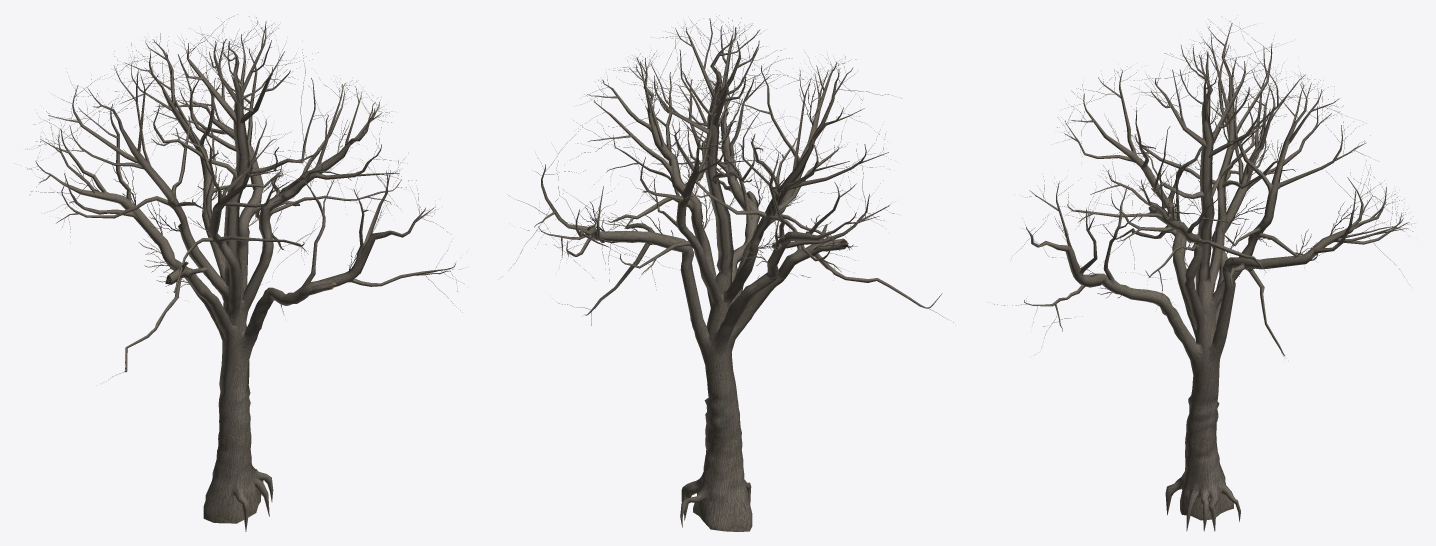
File: oak-raised-winter-fine.gltf
The picture shows the model from 3 angles, left to right: view 1: azimuth 30°, elevation 25°; view 2: azimuth 150°, elevation 25°; view 3: azimuth 270°, elevation 25°; orthographic projection. The views are drawn at different scales.
Visible parts, largest first — view 1: White oak winter fine branches; view 2: White oak winter fine branches; view 3: White oak winter fine branches.
Boxes of the visible parts, <box> form: White oak winter fine branches: <box>27,14,463,531</box>; White oak winter fine branches: <box>508,15,953,531</box>; White oak winter fine branches: <box>994,16,1413,531</box>.
Bounding box in the file's own units: 771 × 1057 × 886.
Materials: 3 (3 with a texture image).
